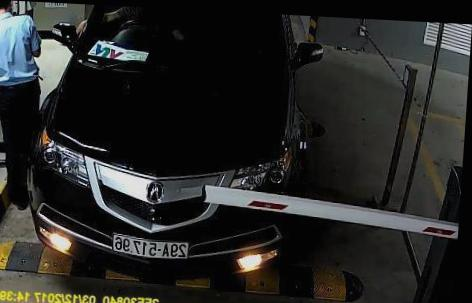License_Plate: (110, 230, 192, 259)
